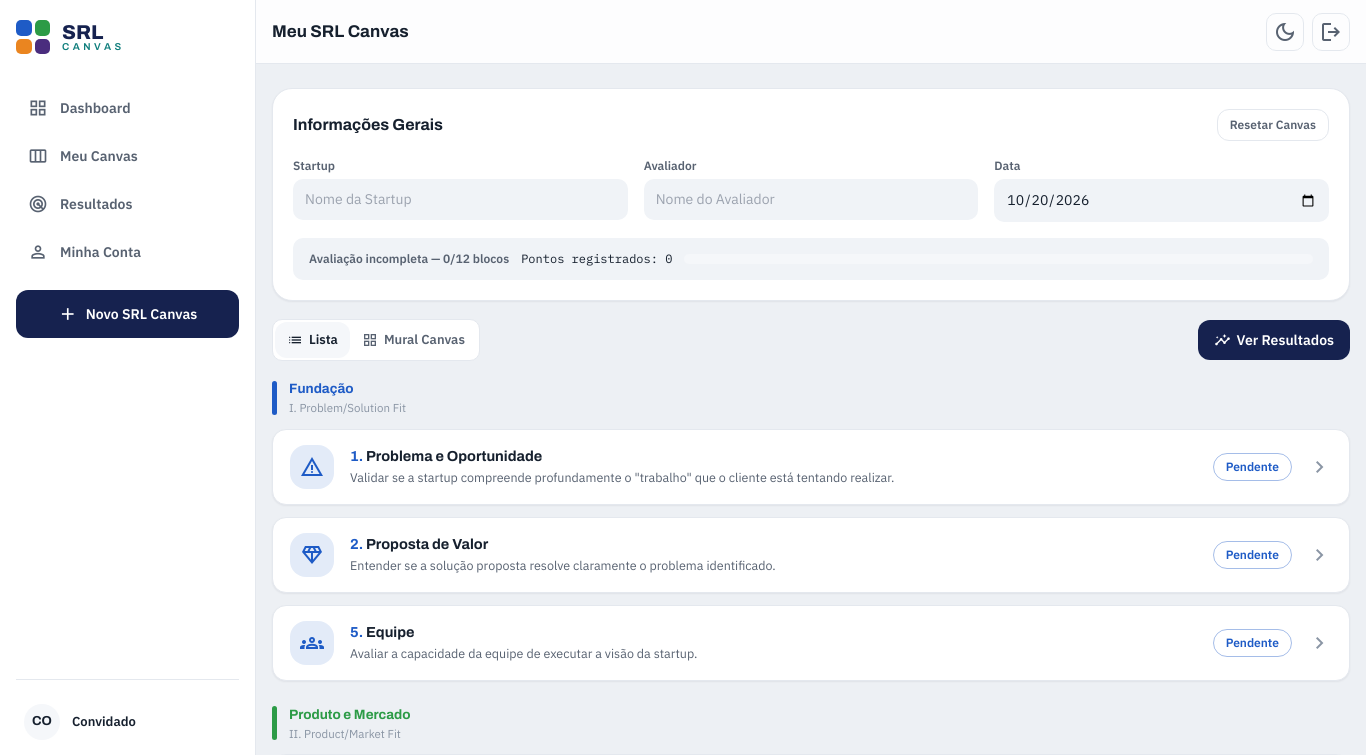
Test: CanvasPage › salvar persiste a nota e atualiza os pontos registrados
What coordinates should you click on to do the following:
click the button "Problema e Oportunidade"
I would click on:
 (811, 466)
Its box is [272,428,1350,504].
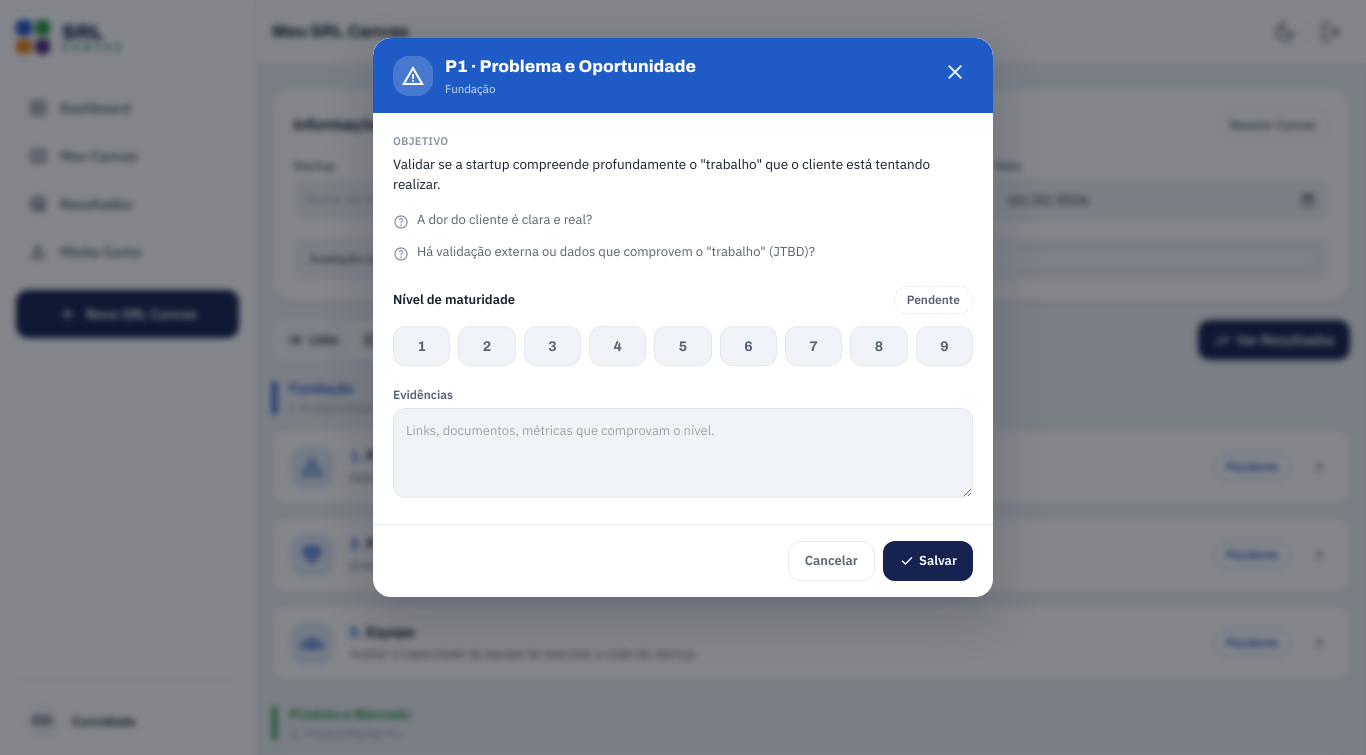
What coordinates should you click on to do the following:
click the button named "Selecionar nível 1"
I would click on:
 (422, 346)
Its box is [393,326,450,366].
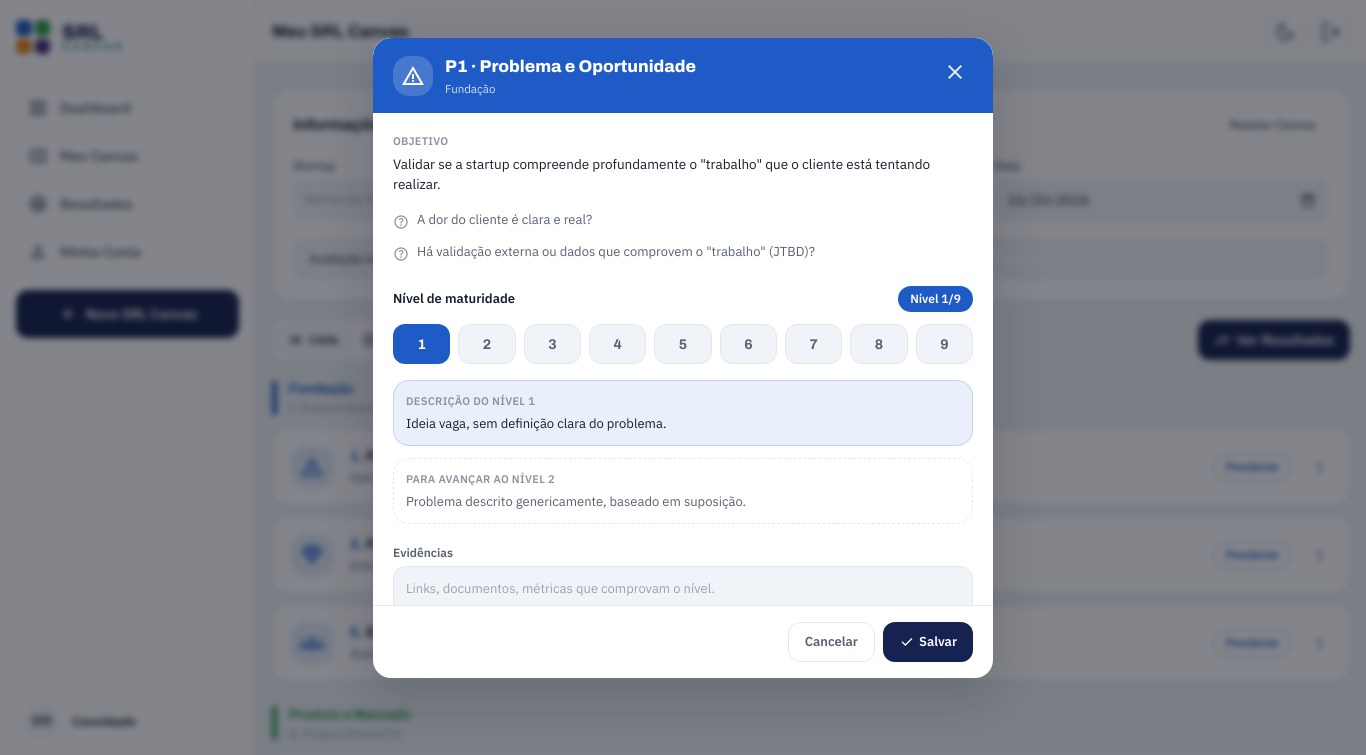
What coordinates should you click on to do the following:
click the button "Salvar"
I would click on:
 (928, 642)
Its box is [883,622,973,662].
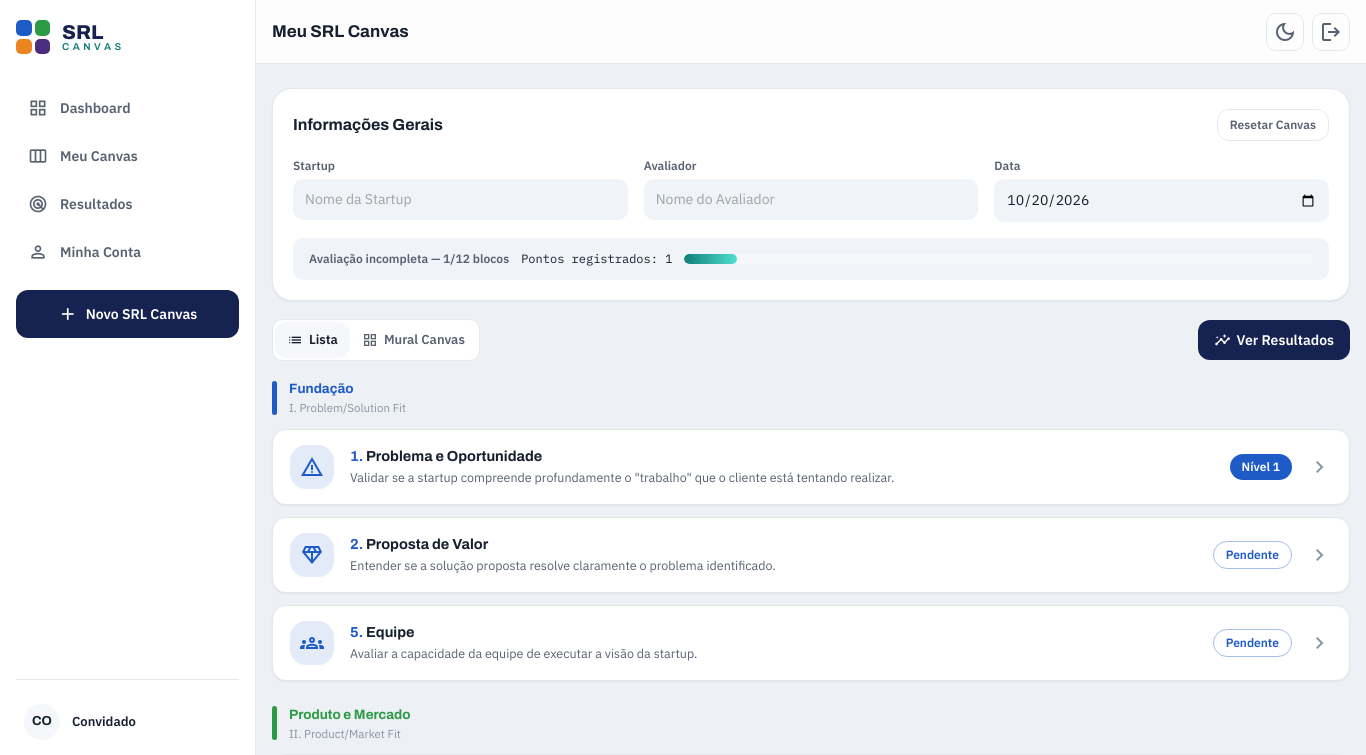
Check: the text "Avaliação incompleta — 1/12 blocos" is shown, box [309,250,509,268]
Check: the text "Pontos registrados: 1" is shown, box [521,250,672,268]
